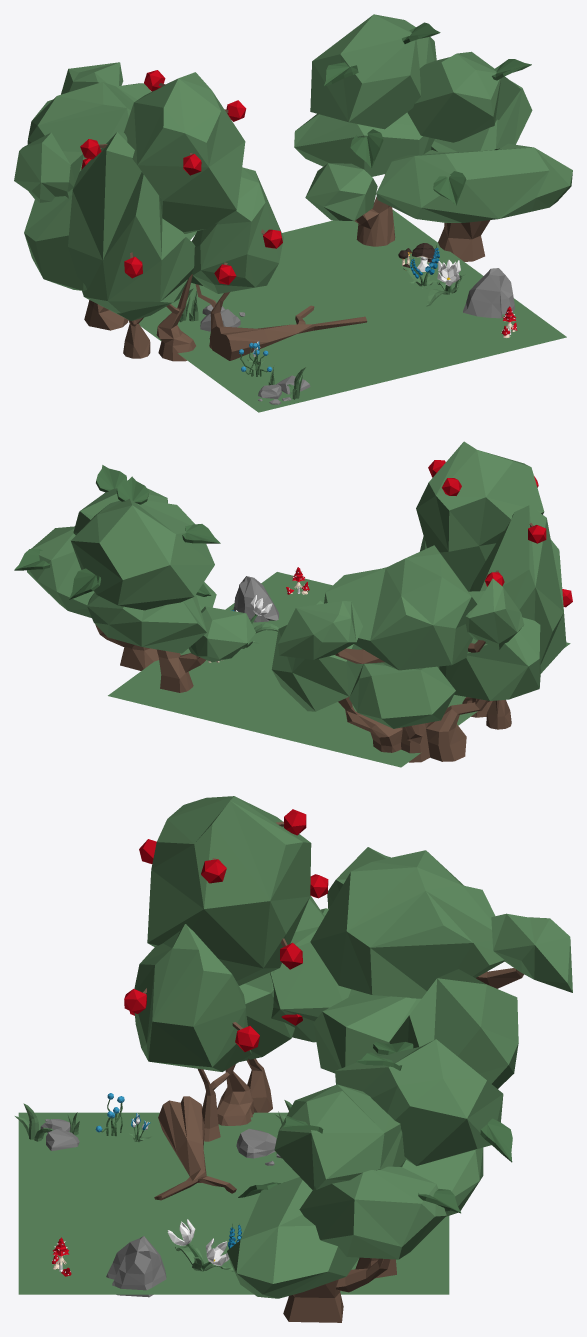
The model's file is LeftBottomTile.fbx.
3 renders of one model, top to bottom at view 1: azimuth 30°, elevation 25°; view 2: azimuth 150°, elevation 25°; view 3: azimuth 270°, elevation 25°, orthographic. The views are drawn at different scales.
Parts seen in each view (by area): view 1: stone_2; view 2: stone_2; view 3: stone_2.
Boxes of the visible parts, x1,y1,x2,y2 form: stone_2: (14,14,572,412); stone_2: (14,441,572,767); stone_2: (15,796,572,1322).
Bounding box in the file's own units: 3.33 × 1.73 × 2.6.
